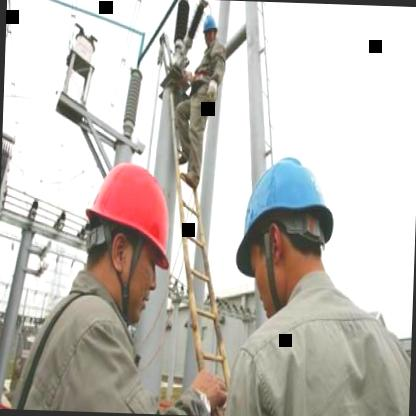helmet: (220, 137, 346, 316), (73, 148, 184, 322), (200, 10, 219, 50)
